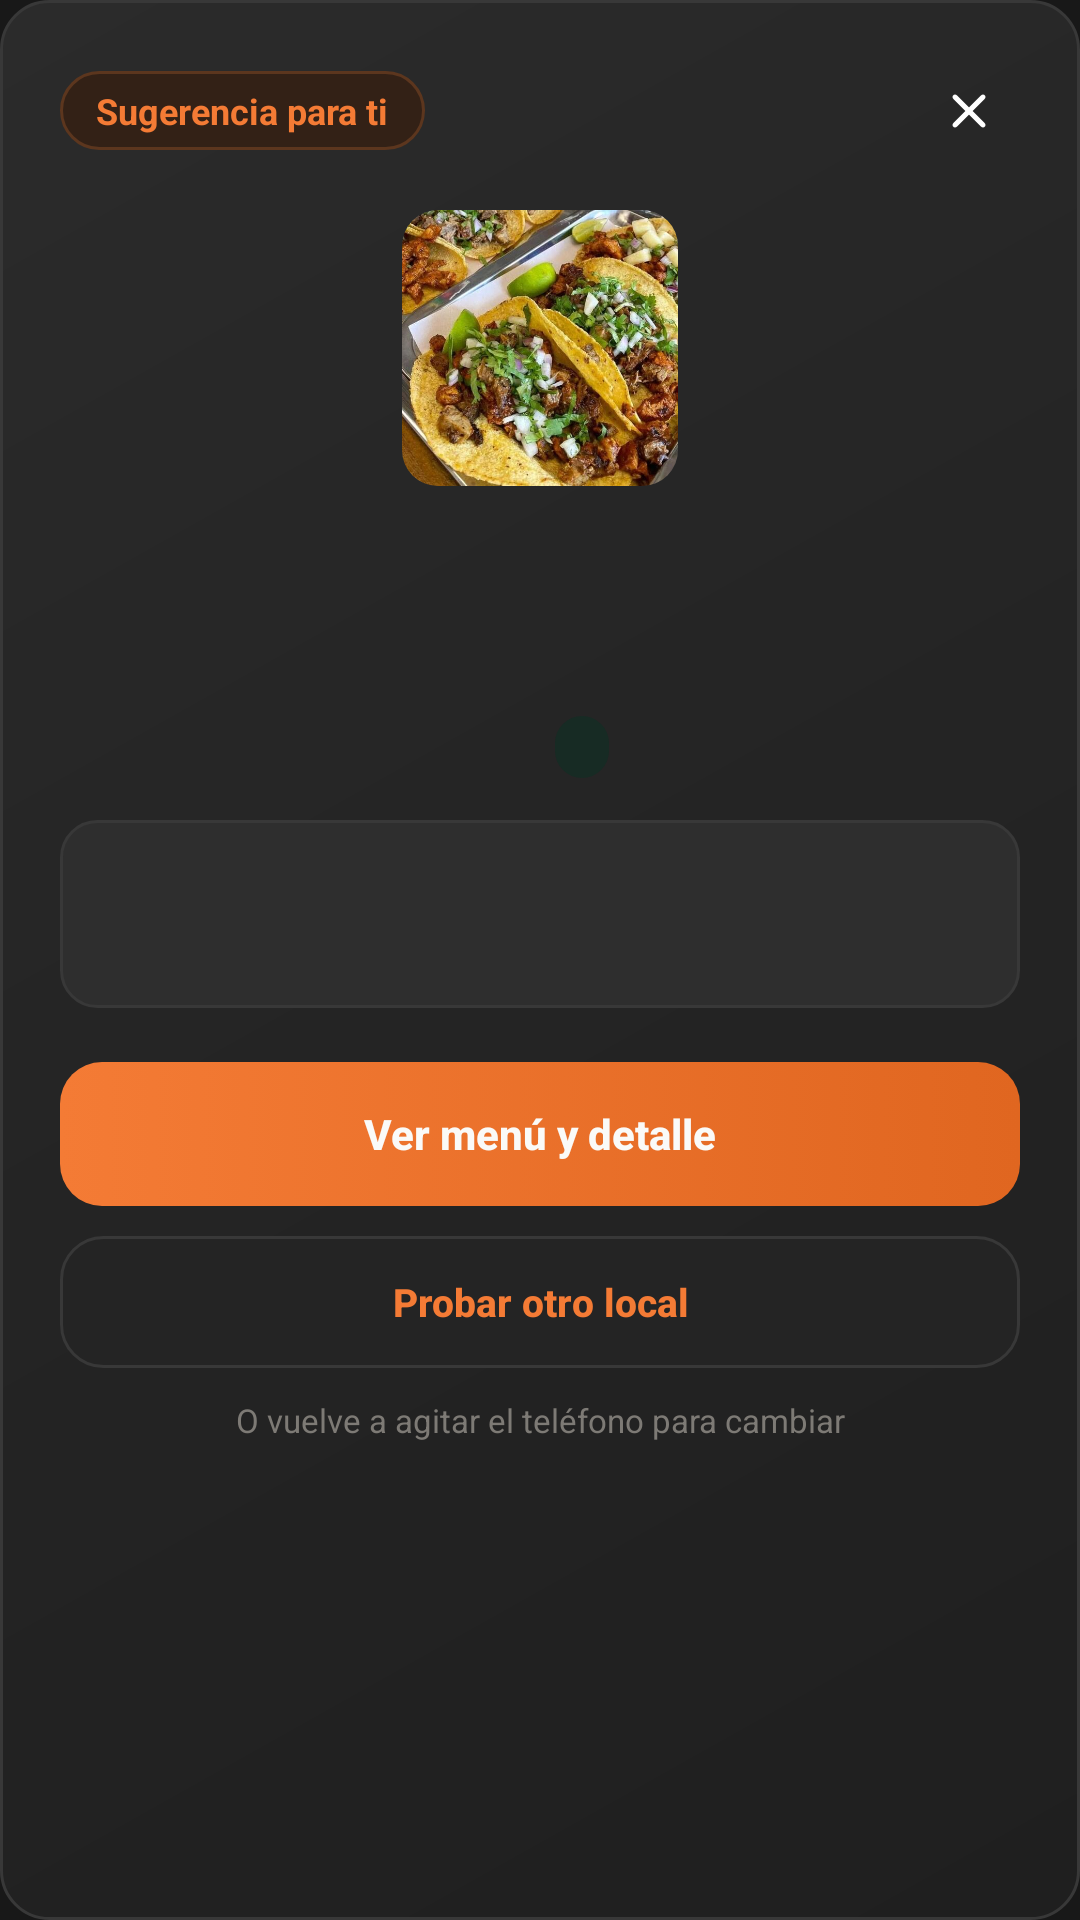

Where to tap for icons on this 1080 x 1920 app screen, as point (x, y):
Cerrar sugerencia: point (969, 111)
Foto del foodtruck: point (540, 348)
